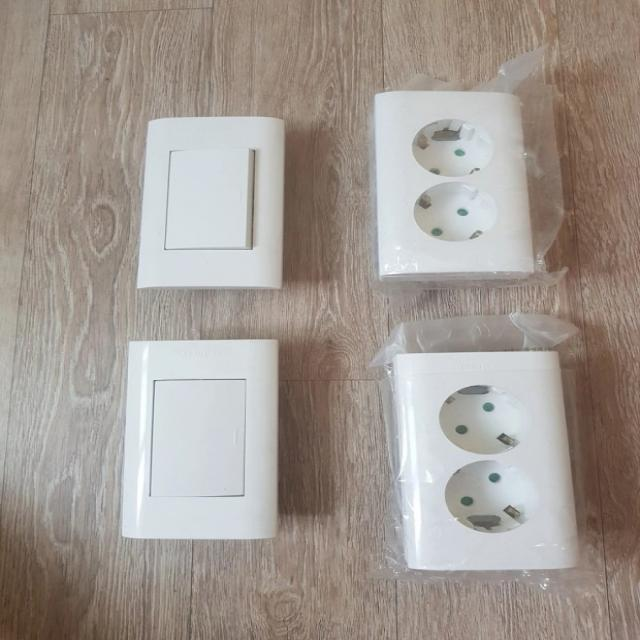typeb: (378, 340, 598, 598), (358, 64, 558, 288)
